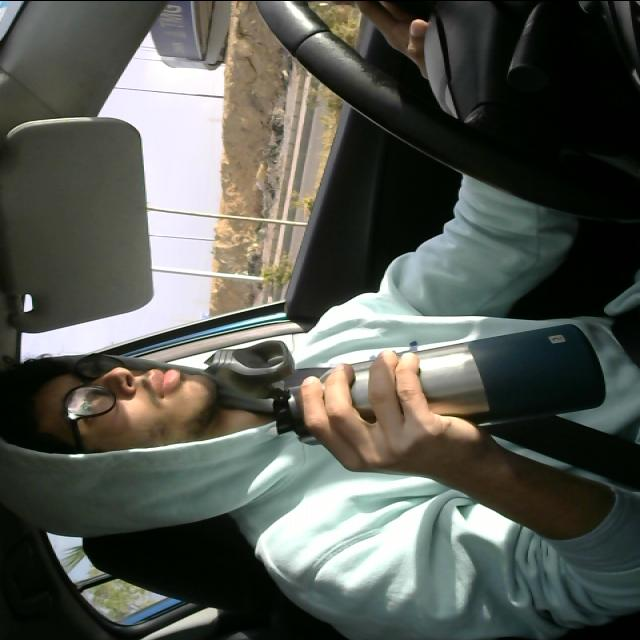drinking: (196, 322, 603, 456)
